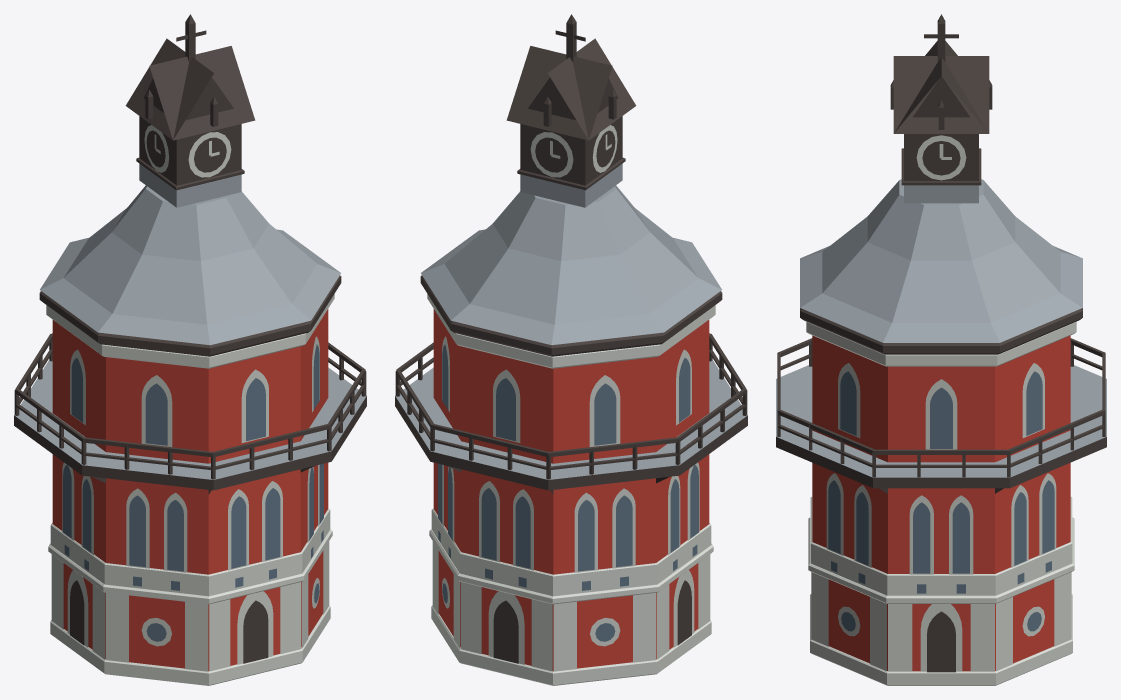
Rendered from cpt-clock-tower-va.glb.
3 renders of one model, left to right at view 1: azimuth 30°, elevation 25°; view 2: azimuth 150°, elevation 25°; view 3: azimuth 270°, elevation 25°, orthographic.
Parts seen in each view (by area): view 1: Clock Tower; view 2: Clock Tower; view 3: Clock Tower.
Part boxes in pixels (x1,y1,x2,y2): Clock Tower: (14, 14, 366, 685); Clock Tower: (395, 14, 747, 685); Clock Tower: (776, 14, 1106, 685).
Bounding box in the file's own units: 11.42 × 23.5 × 11.42.
